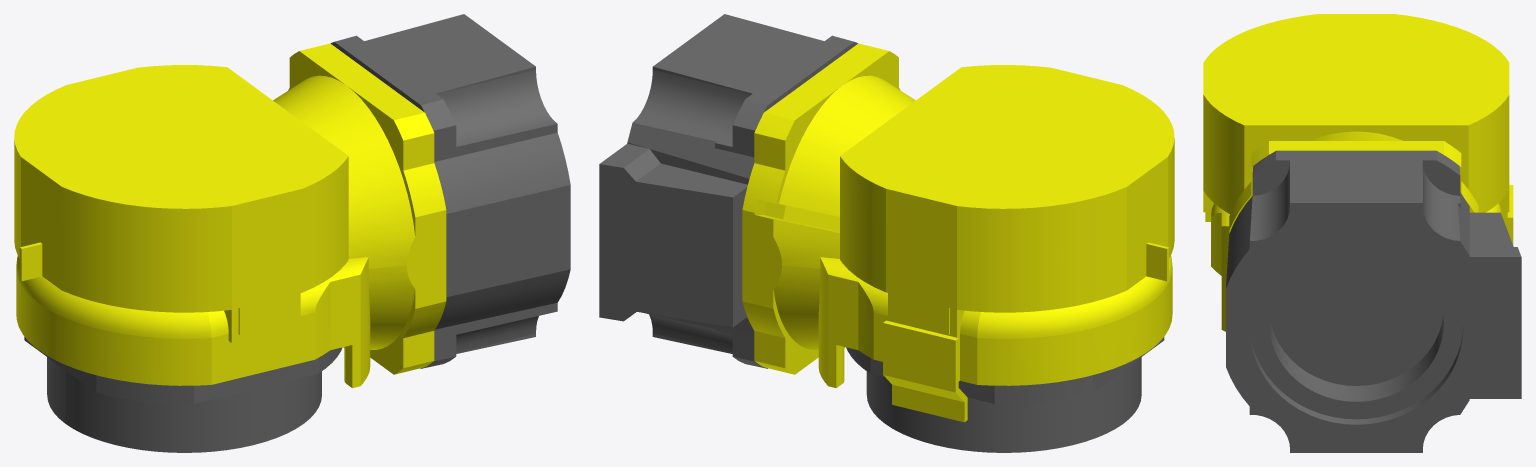
The picture shows the model from 3 angles, left to right: view 1: azimuth 30°, elevation 25°; view 2: azimuth 150°, elevation 25°; view 3: azimuth 270°, elevation 25°; orthographic projection. The views are drawn at different scales.
Parts seen in each view (by area): view 1: Mesh_0; view 2: Mesh_0; view 3: Mesh_0.
Boxes of the visible parts, <box> form: Mesh_0: <box>14,14,570,452</box>; Mesh_0: <box>599,14,1174,452</box>; Mesh_0: <box>1203,14,1521,452</box>.
Size of the model in its own units: 0.2779 by 0.1538 by 0.1726.
